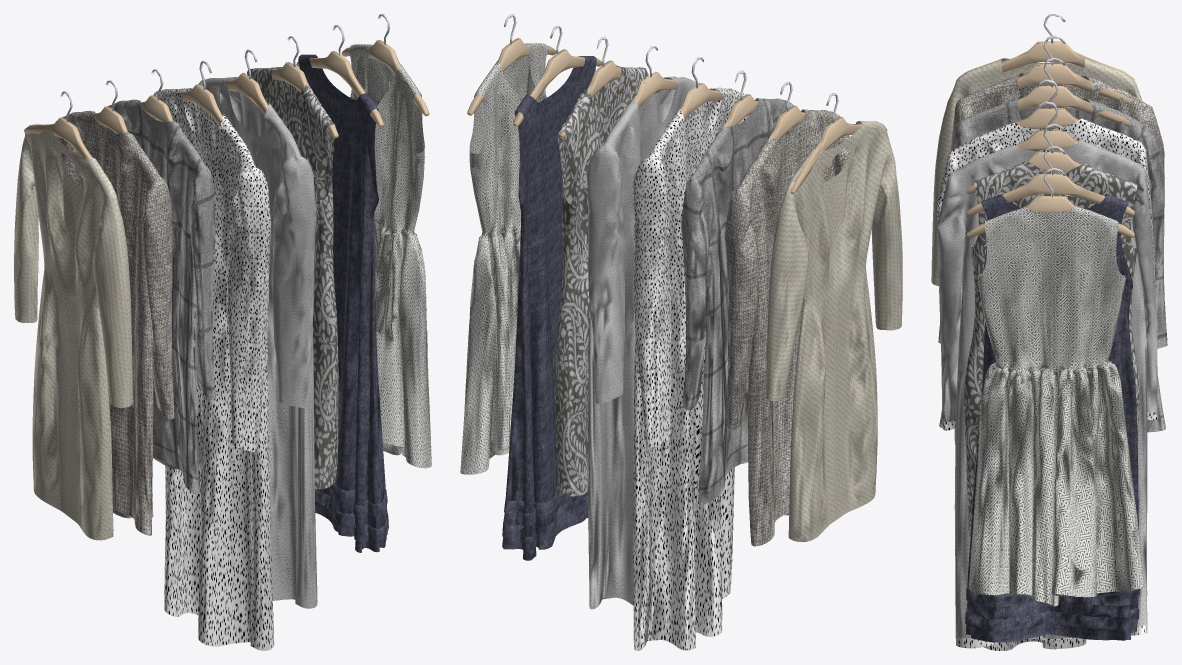
The model's file is rod-hang-long.glb.
The picture shows the model from 3 angles, left to right: view 1: azimuth 30°, elevation 25°; view 2: azimuth 150°, elevation 25°; view 3: azimuth 270°, elevation 25°; orthographic projection. The views are drawn at different scales.
Parts seen in each view (by area): view 1: set_14_007.001, set_14_001.001, set_14_005.001, set_14_010.001, set_14_003.001, set_14_002.001, set_14_006.001, set_14_004.001, Hanger_set_14_023.001, Hanger_set_14_105.001, Hanger_set_14_067.001, Hanger_set_14_107.001 (+4 smaller); view 2: set_14_001.001, set_14_007.001, set_14_005.001, set_14_010.001, set_14_002.001, set_14_003.001, set_14_006.001, set_14_004.001, Hanger_set_14_105.001, Hanger_set_14_023.001, Hanger_set_14_067.001, Hanger_set_14_107.001 (+4 smaller); view 3: set_14_003.001, set_14_005.001, set_14_010.001, set_14_004.001, set_14_006.001, set_14_007.001, set_14_001.001, set_14_002.001, Hanger_set_14_023.001, Hanger_set_14_104.001, Hanger_set_14_022.001, Hanger_set_14_105.001 (+4 smaller).
Part boxes in pixels (x1,y1,x2,y2): set_14_007.001: [149, 88, 274, 650]; set_14_001.001: [14, 124, 132, 540]; set_14_005.001: [199, 77, 317, 608]; set_14_010.001: [298, 54, 388, 552]; set_14_003.001: [349, 44, 431, 468]; set_14_002.001: [55, 110, 174, 535]; set_14_006.001: [101, 99, 215, 493]; set_14_004.001: [247, 67, 339, 489]; Hanger_set_14_023.001: [296, 24, 383, 127]; Hanger_set_14_105.001: [24, 91, 92, 157]; Hanger_set_14_067.001: [341, 14, 429, 116]; Hanger_set_14_107.001: [182, 60, 246, 156]; set_14_001.001: [766, 121, 902, 541]; set_14_007.001: [632, 87, 748, 650]; set_14_005.001: [586, 76, 700, 609]; set_14_010.001: [502, 56, 596, 560]; set_14_002.001: [724, 109, 850, 546]; set_14_003.001: [460, 43, 547, 474]; set_14_006.001: [681, 98, 797, 503]; set_14_004.001: [555, 65, 646, 496]; Hanger_set_14_105.001: [790, 93, 861, 194]; Hanger_set_14_023.001: [513, 25, 602, 126]; Hanger_set_14_067.001: [467, 14, 556, 115]; Hanger_set_14_107.001: [680, 57, 723, 120]; set_14_003.001: [968, 206, 1144, 606]; set_14_005.001: [937, 140, 1157, 638]; set_14_010.001: [965, 193, 1139, 642]; set_14_004.001: [964, 161, 1139, 536]; set_14_006.001: [938, 95, 1167, 432]; set_14_007.001: [937, 118, 1157, 650]; set_14_001.001: [931, 58, 1142, 286]; set_14_002.001: [950, 73, 1164, 443]; Hanger_set_14_023.001: [967, 146, 1134, 215]; Hanger_set_14_104.001: [1017, 35, 1130, 103]; Hanger_set_14_022.001: [1017, 57, 1131, 125]; Hanger_set_14_105.001: [1001, 14, 1134, 80].
Bounding box in the file's own units: 0.9331 × 1.45 × 0.5438.
24 materials, 8 textured.
